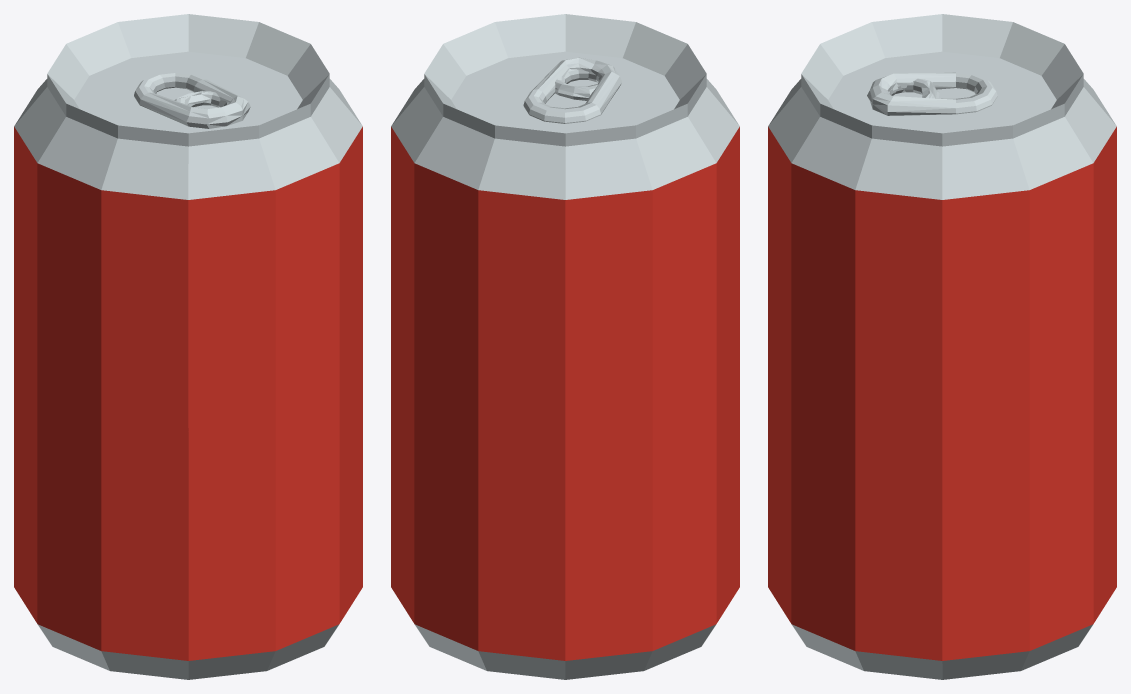
Rendered from Can.glb.
The picture shows the model from 3 angles, left to right: view 1: azimuth 30°, elevation 25°; view 2: azimuth 150°, elevation 25°; view 3: azimuth 270°, elevation 25°; orthographic projection.
Visible parts, largest first — view 1: Node; view 2: Node; view 3: Node.
Boxes of the visible parts, x1,y1,x2,y2 form: Node: [14, 14, 362, 679]; Node: [391, 14, 739, 679]; Node: [768, 14, 1116, 679].
Size of the model in its own units: 0.24 by 0.41 by 0.24.
